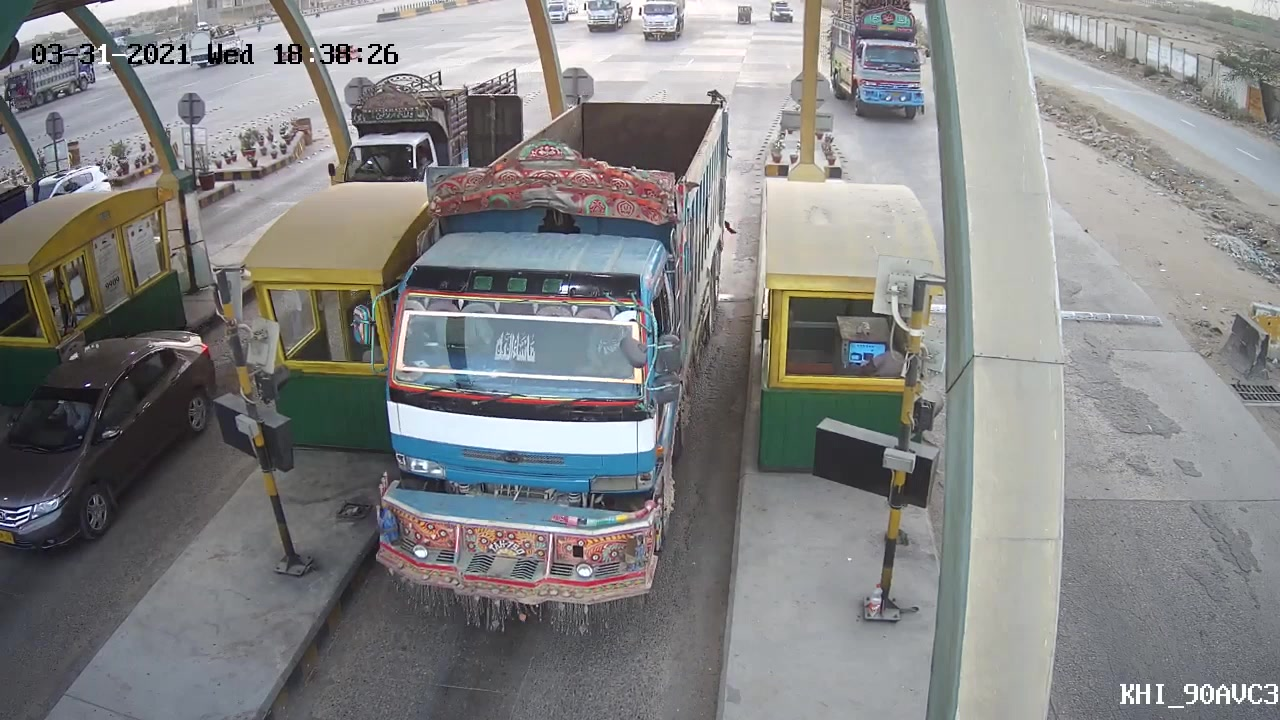F5: (369, 82, 736, 640)
